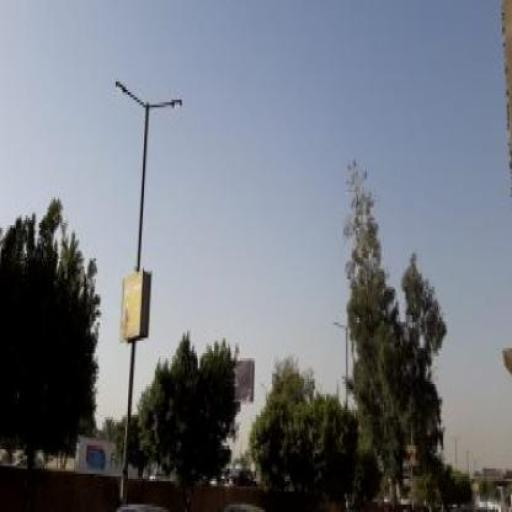street light: (114, 76, 180, 502), (334, 320, 358, 489)
